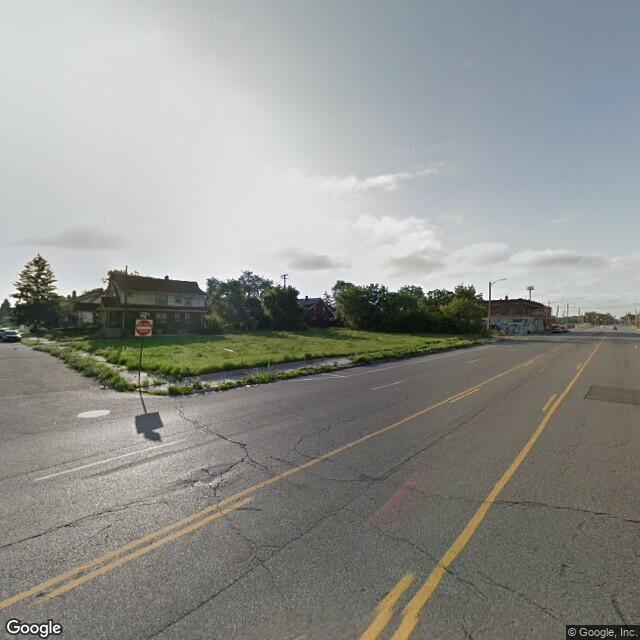litter: (243, 380, 254, 391), (98, 384, 108, 393)
